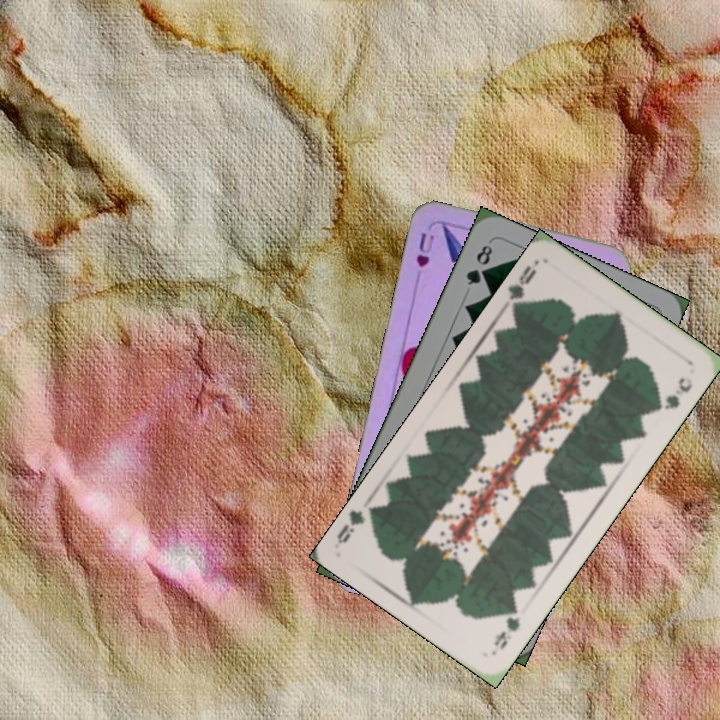G8: (462, 238, 495, 288)
G9: (505, 261, 540, 313), (489, 601, 523, 654)
HU: (412, 229, 437, 270)
